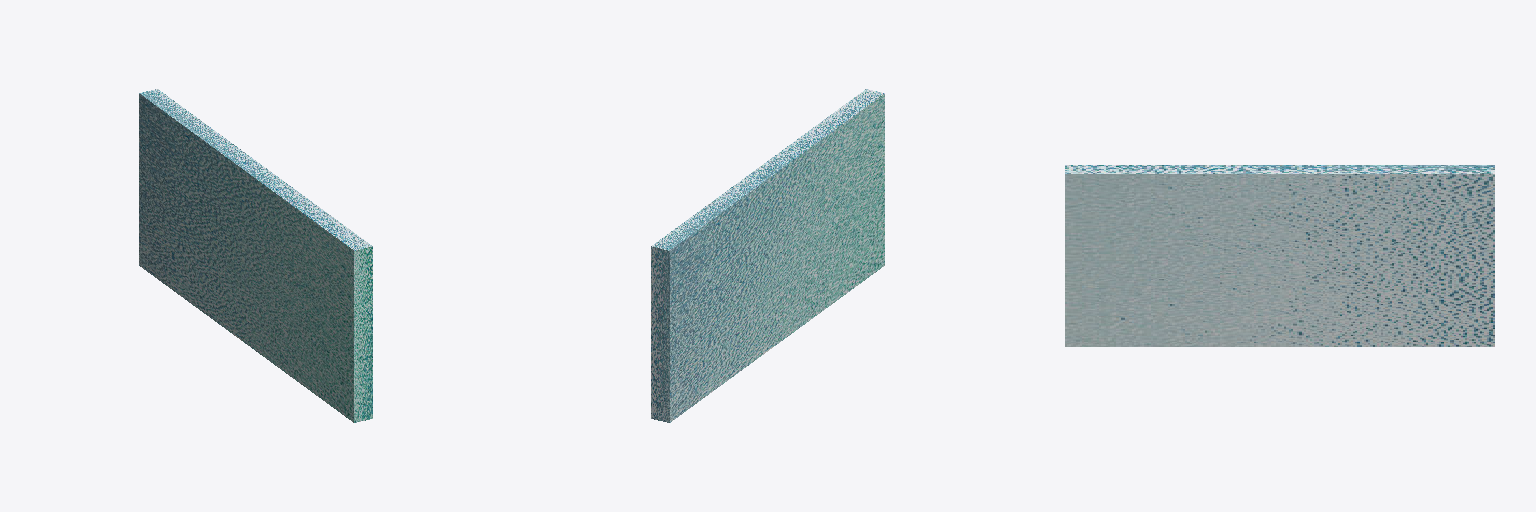
3 renders of one model, left to right at view 1: azimuth 30°, elevation 25°; view 2: azimuth 150°, elevation 25°; view 3: azimuth 270°, elevation 25°, orthographic.
Visible parts, largest first — view 1: Cubo_Cubo.015; view 2: Cubo_Cubo.015; view 3: Cubo_Cubo.015.
Part boxes in pixels (x1,y1,x2,y2): Cubo_Cubo.015: (139, 89, 372, 422); Cubo_Cubo.015: (651, 89, 884, 422); Cubo_Cubo.015: (1065, 165, 1494, 346).
Bounding box in the file's own units: 0.0646 × 0.5747 × 1.3.
1 materials, 1 textured.